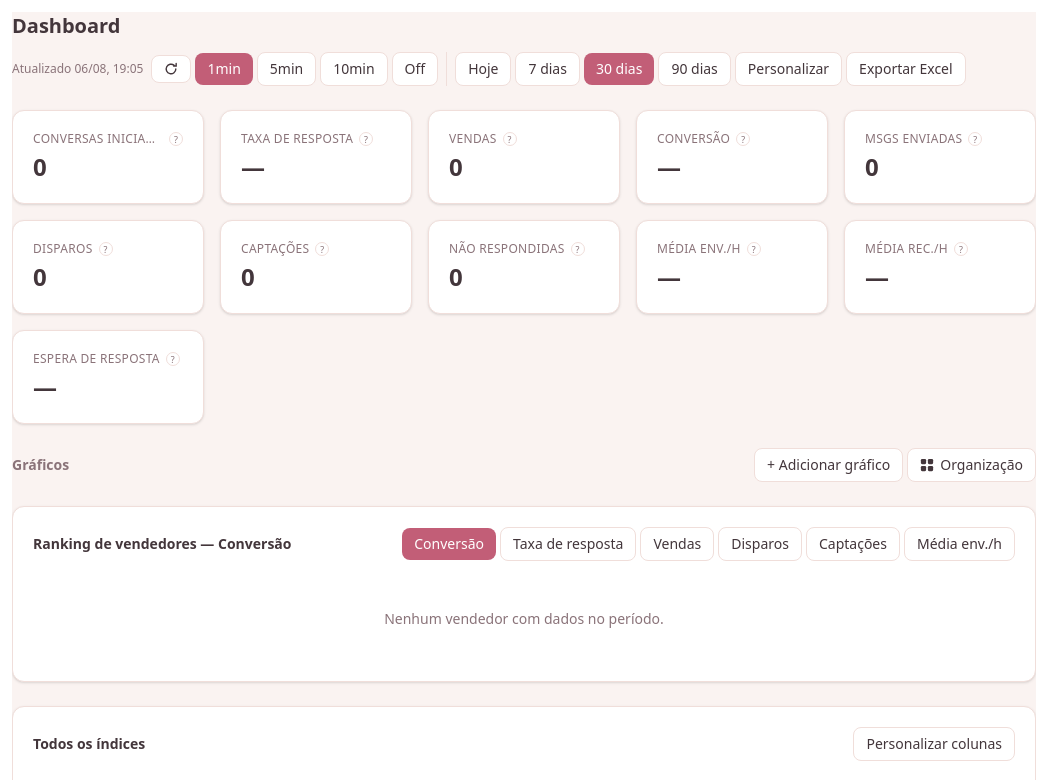
Scenario: DashboardPage › adicionar gráfico usa a próxima métrica livre
Expected: the heading "Ranking de vendedores — Conversão" is shown, [33, 534, 292, 554]
Click the button "+ Adicionar gráfico" at (829, 465), box [754, 448, 903, 482]
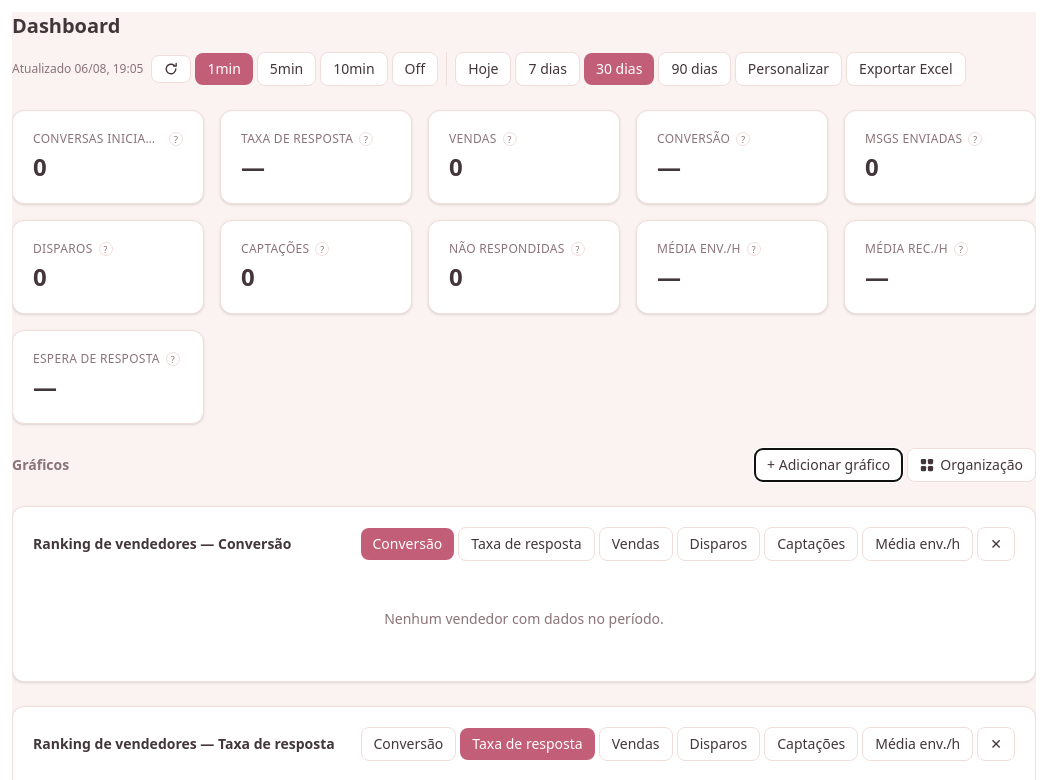
Expected: the heading "Ranking de vendedores — Conversão" is shown, [33, 534, 292, 554]
Expected: the heading "Ranking de vendedores — Taxa de resposta" is shown, [33, 734, 335, 754]
